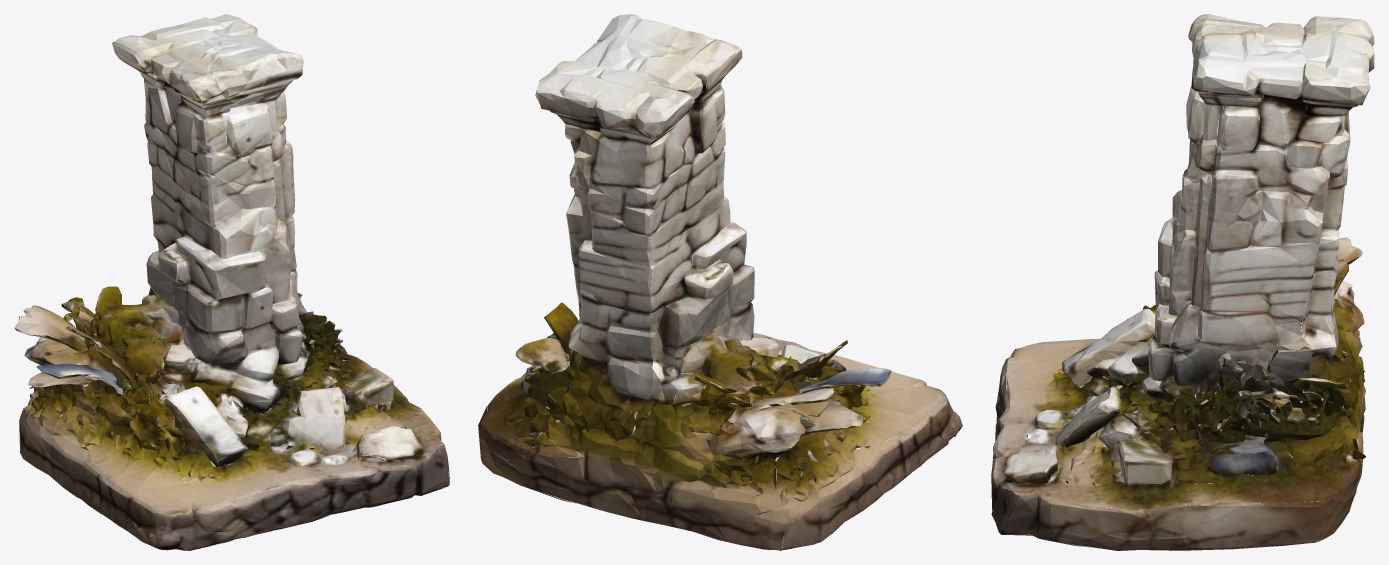
File: wt-ruins-masonry.glb
3 views of the same model, side by side, from view 1: azimuth 30°, elevation 25°; view 2: azimuth 150°, elevation 25°; view 3: azimuth 270°, elevation 25° (orthographic). The views are drawn at different scales.
Visible parts, largest first — view 1: tmpsu4k3uro.ply; view 2: tmpsu4k3uro.ply; view 3: tmpsu4k3uro.ply.
Part boxes in pixels (<box>): tmpsu4k3uro.ply: <box>14,14,449,550</box>; tmpsu4k3uro.ply: <box>478,14,962,550</box>; tmpsu4k3uro.ply: <box>991,14,1374,550</box>.
Size of the model in its own units: 5.3 by 5.85 by 4.61.
1 material, 1 textured.
